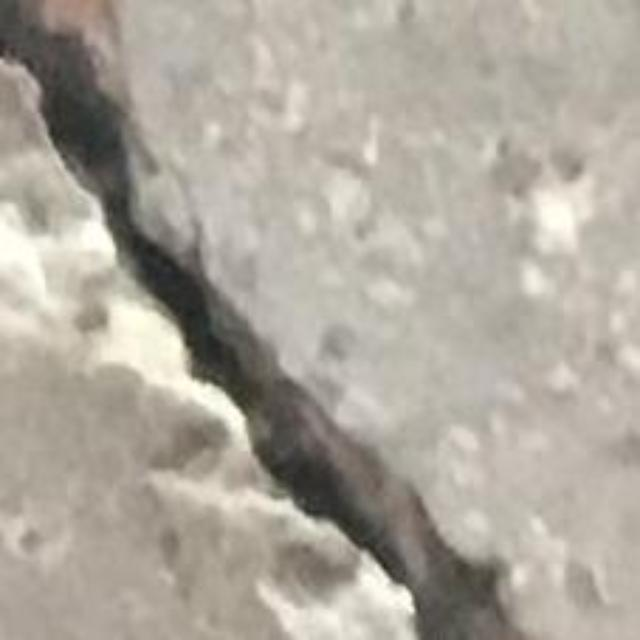crack: (0, 0, 521, 639)
peeling plaster: (0, 201, 386, 639)
